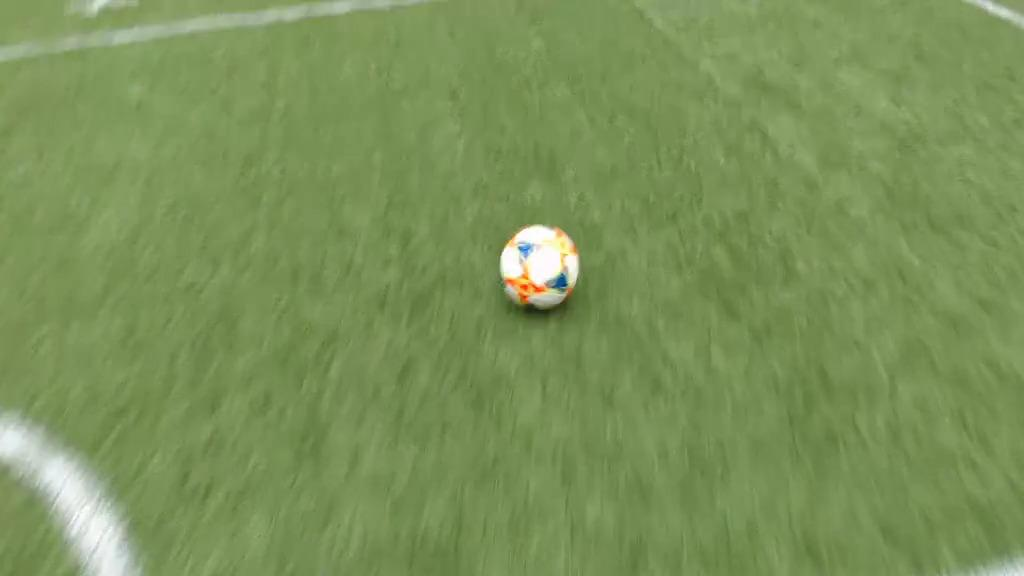ball: (501, 226, 579, 308)
